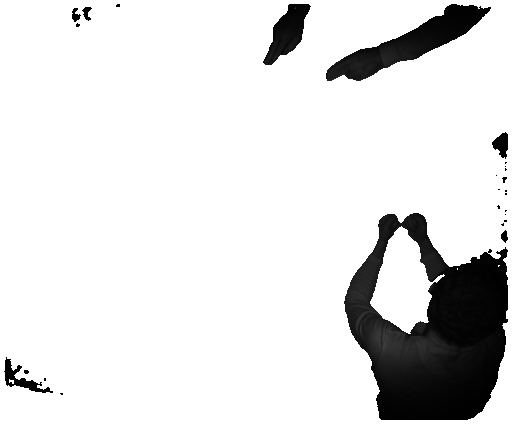fist: (404, 208, 438, 241), (369, 208, 402, 241)
hand: (256, 18, 310, 71), (327, 44, 383, 87)
